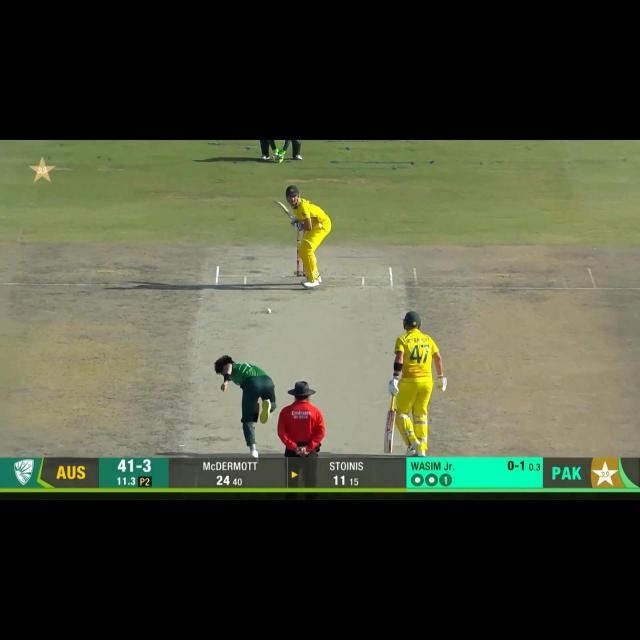bat: (378, 412, 397, 454), (275, 199, 293, 218)
toe: (381, 441, 395, 456), (275, 200, 282, 207)
